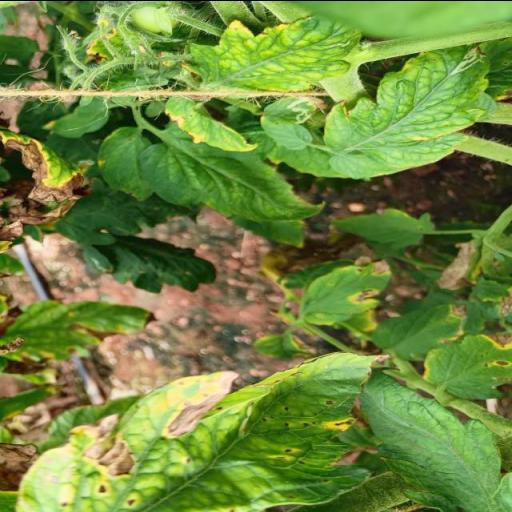Early Blight: (18, 346, 392, 512), (423, 326, 512, 401), (296, 257, 392, 325)
